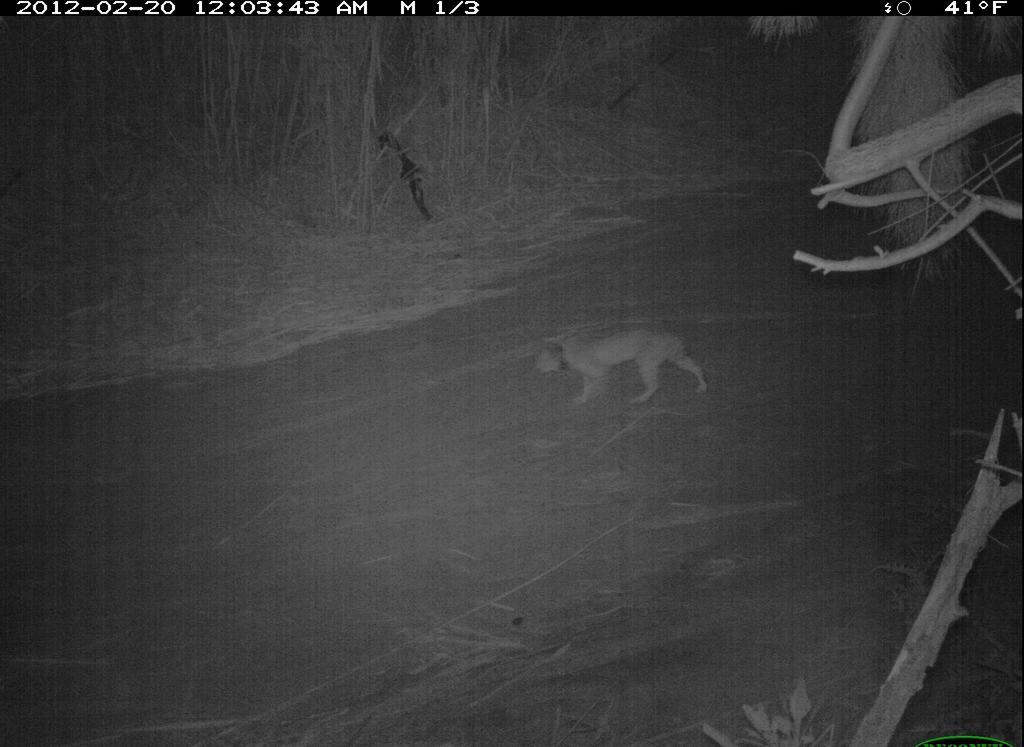bobcat: (530, 318, 717, 413)
